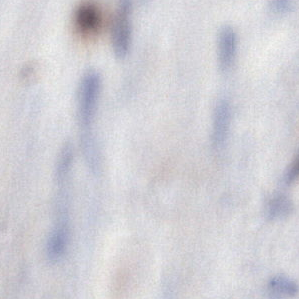Lymphocyte: (74, 3, 107, 36)
